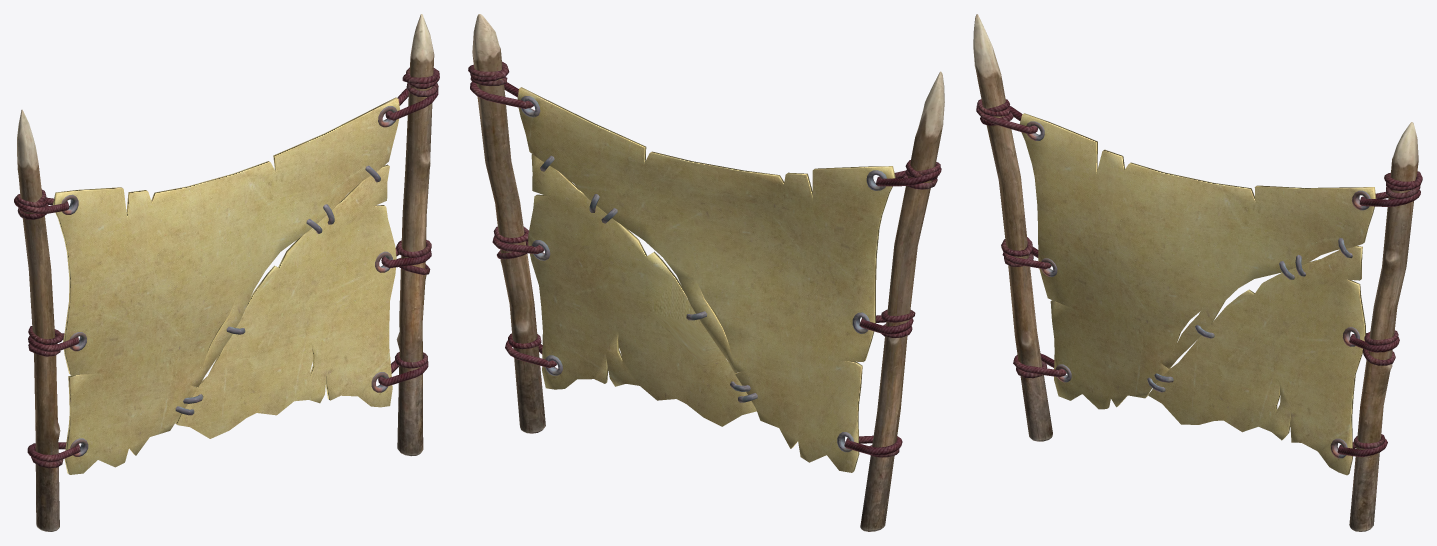
3 renders of one model, left to right at view 1: azimuth 30°, elevation 25°; view 2: azimuth 150°, elevation 25°; view 3: azimuth 330°, elevation 25°, orthographic. The views are drawn at different scales.
Parts seen in each view (by area): view 1: SM_Moon_Garou_Fence_01v2_LOD0; view 2: SM_Moon_Garou_Fence_01v2_LOD0; view 3: SM_Moon_Garou_Fence_01v2_LOD0.
Part boxes in pixels (bbox=[...]): SM_Moon_Garou_Fence_01v2_LOD0: bbox=[14, 14, 439, 531]; SM_Moon_Garou_Fence_01v2_LOD0: bbox=[468, 14, 944, 531]; SM_Moon_Garou_Fence_01v2_LOD0: bbox=[973, 14, 1422, 531].
Bounding box in the file's own units: 4.32 × 4.14 × 0.63.
Materials: 4 (4 with a texture image).
